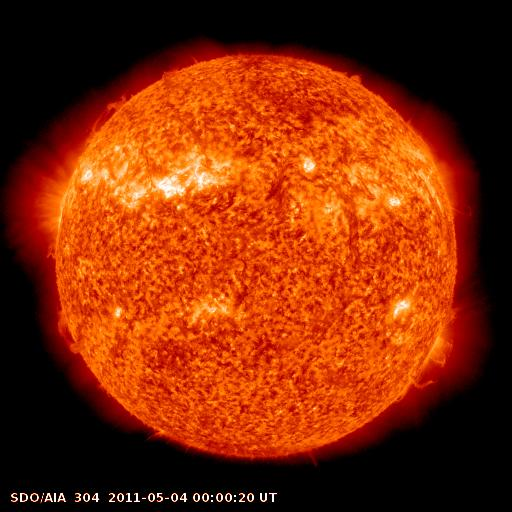prominence: (80, 87, 135, 147), (392, 372, 449, 408), (52, 305, 82, 356), (335, 63, 377, 96), (151, 61, 201, 88), (35, 238, 70, 267)
